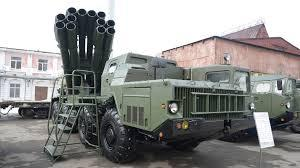MIL_SAM_TEL: (49, 7, 257, 161)
